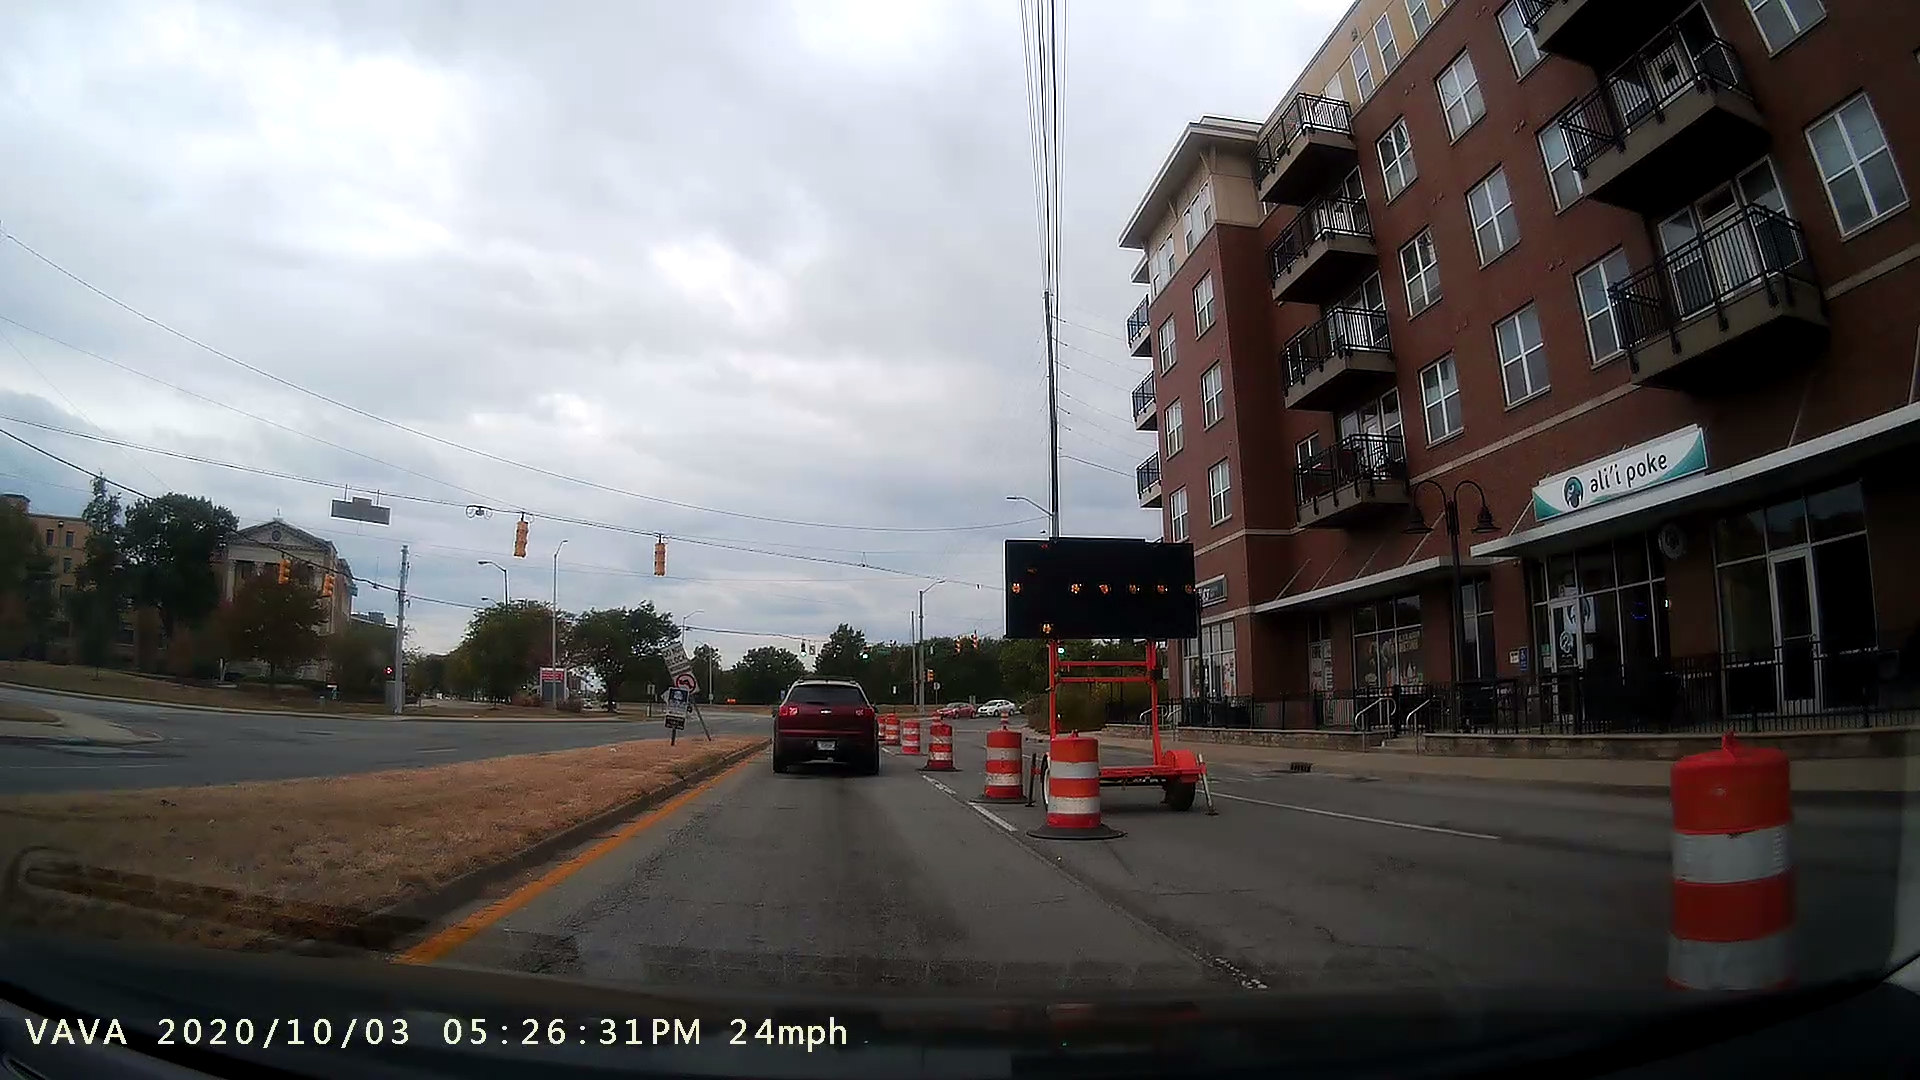const_barrel: (1033, 723, 1164, 844), (968, 713, 1027, 808), (920, 709, 957, 783)
